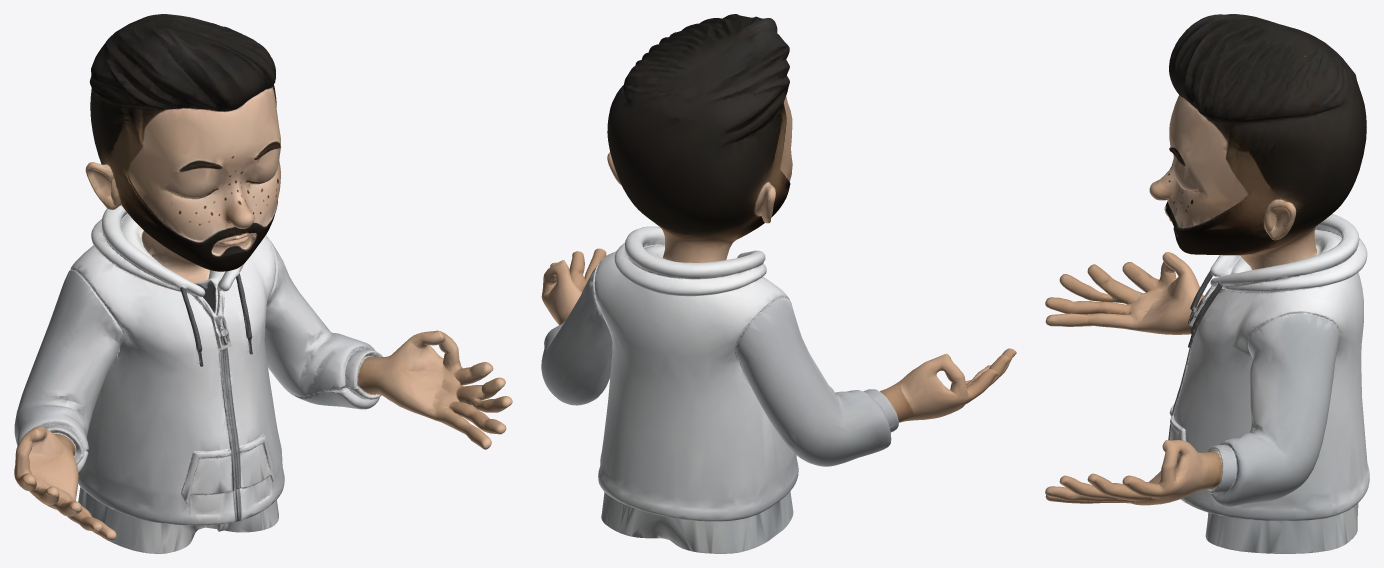
The model's file is memoji.glb.
The picture shows the model from 3 angles, left to right: view 1: azimuth 30°, elevation 25°; view 2: azimuth 150°, elevation 25°; view 3: azimuth 270°, elevation 25°; orthographic projection. The views are drawn at different scales.
Visible parts, largest first — view 1: model; view 2: model; view 3: model.
Part boxes in pixels (x1,y1,x2,y2): model: (14, 14, 512, 553); model: (541, 14, 1016, 553); model: (1045, 14, 1369, 553).
Bounding box in the file's own units: 1.75 × 1.81 × 1.1.
Materials: 1 (1 with a texture image).
